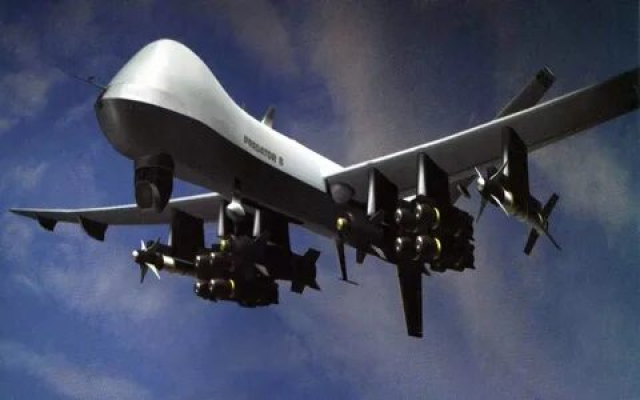military drone: (9, 39, 640, 338)
